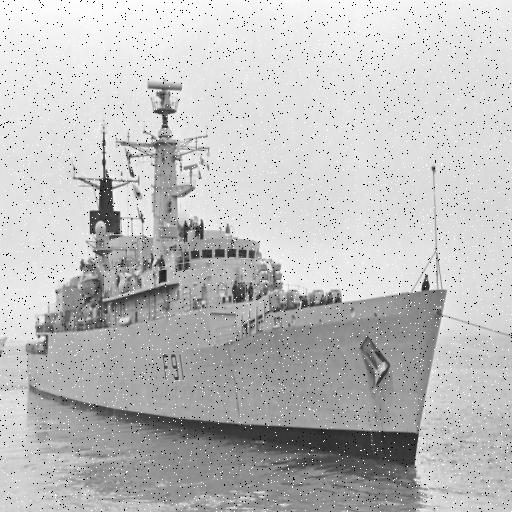Fragata: (23, 62, 452, 478)
